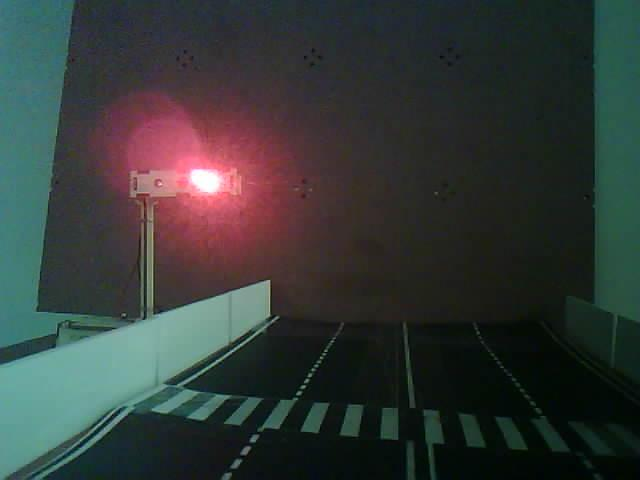crosswalk: (89, 365, 640, 479)
red: (59, 108, 305, 354)
